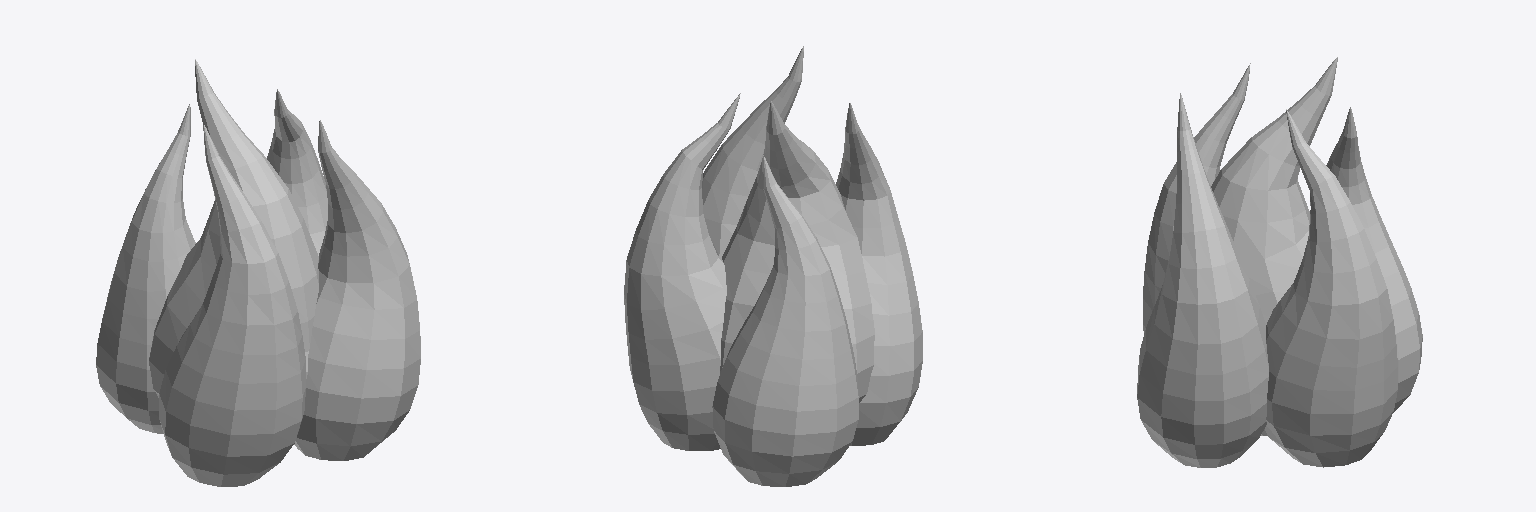
The model's file is fire_000052.obj.
3 renders of one model, left to right at view 1: azimuth 30°, elevation 25°; view 2: azimuth 150°, elevation 25°; view 3: azimuth 270°, elevation 25°, orthographic.
Parts seen in each view (by area): view 1: flame_NurbsPath.015; view 2: flame_NurbsPath.015; view 3: flame_NurbsPath.015.
Boxes of the visible parts, x1,y1,x2,y2 form: flame_NurbsPath.015: [96, 59, 420, 486]; flame_NurbsPath.015: [624, 46, 922, 486]; flame_NurbsPath.015: [1137, 57, 1422, 467].
Bounding box in the file's own units: 0.766 × 1.14 × 0.8011.